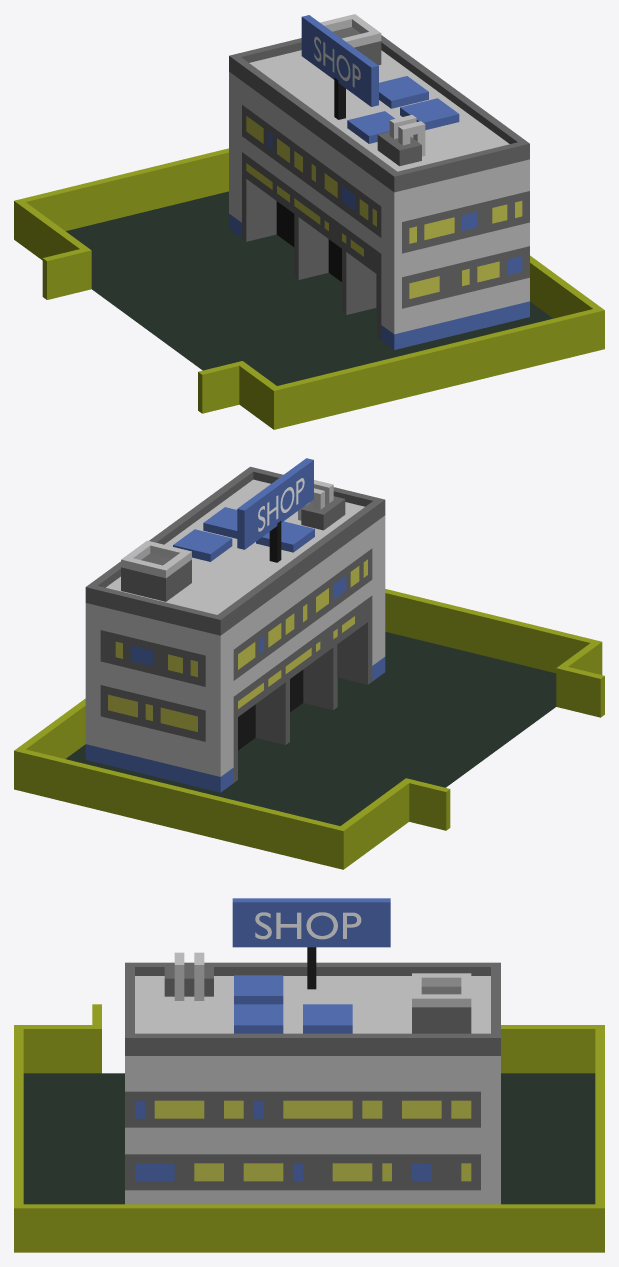
The model's file is shop.fbx.
3 renders of one model, top to bottom at view 1: azimuth 30°, elevation 25°; view 2: azimuth 150°, elevation 25°; view 3: azimuth 270°, elevation 25°, orthographic. The views are drawn at different scales.
Parts seen in each view (by area): view 1: shop, shop.001; view 2: shop, shop.001; view 3: shop, shop.001.
Boxes of the visible parts, x1,y1,x2,y2 form: shop: (14, 14, 604, 429); shop.001: (301, 15, 378, 106); shop: (14, 466, 604, 869); shop.001: (237, 458, 313, 549); shop: (14, 947, 604, 1252); shop.001: (232, 898, 390, 947).
Bounding box in the file's own units: 9.02 × 5.72 × 11.02.
5 materials, 1 textured.
